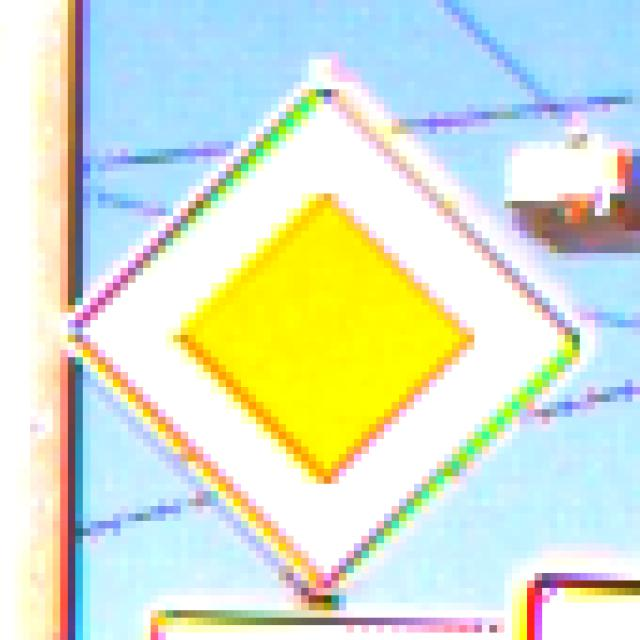Main Road: (61, 53, 581, 589)
